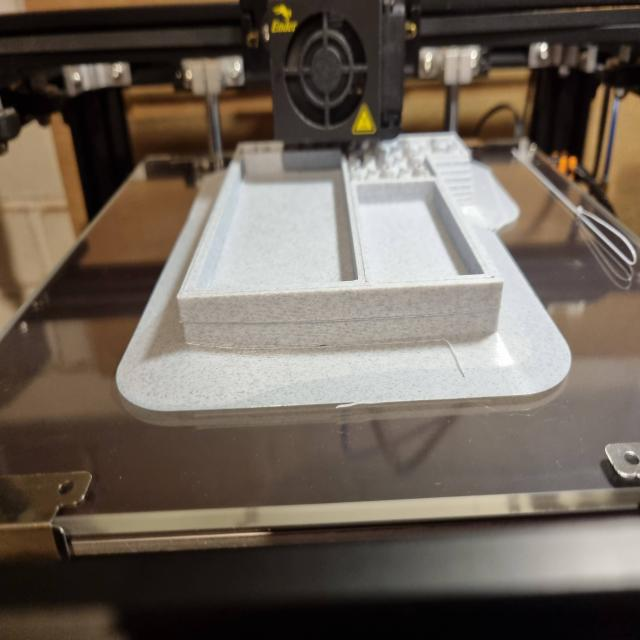Warping: (179, 332, 254, 361)
